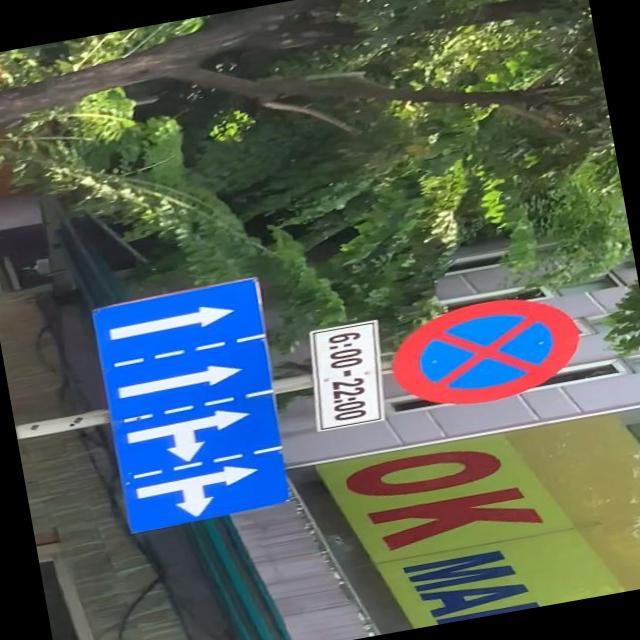P-130: (382, 286, 586, 414)
